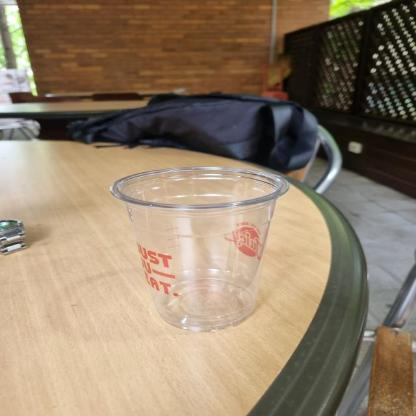Plastic Cup: (107, 162, 298, 334)
